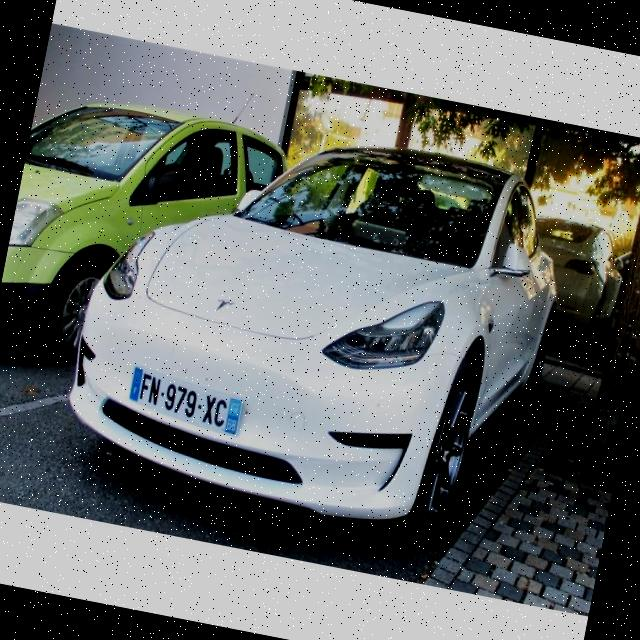Autre: (118, 362, 256, 448)
